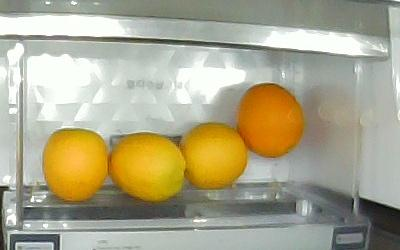orange: (109, 133, 186, 202), (237, 82, 303, 158), (42, 128, 108, 203), (179, 123, 248, 188)
